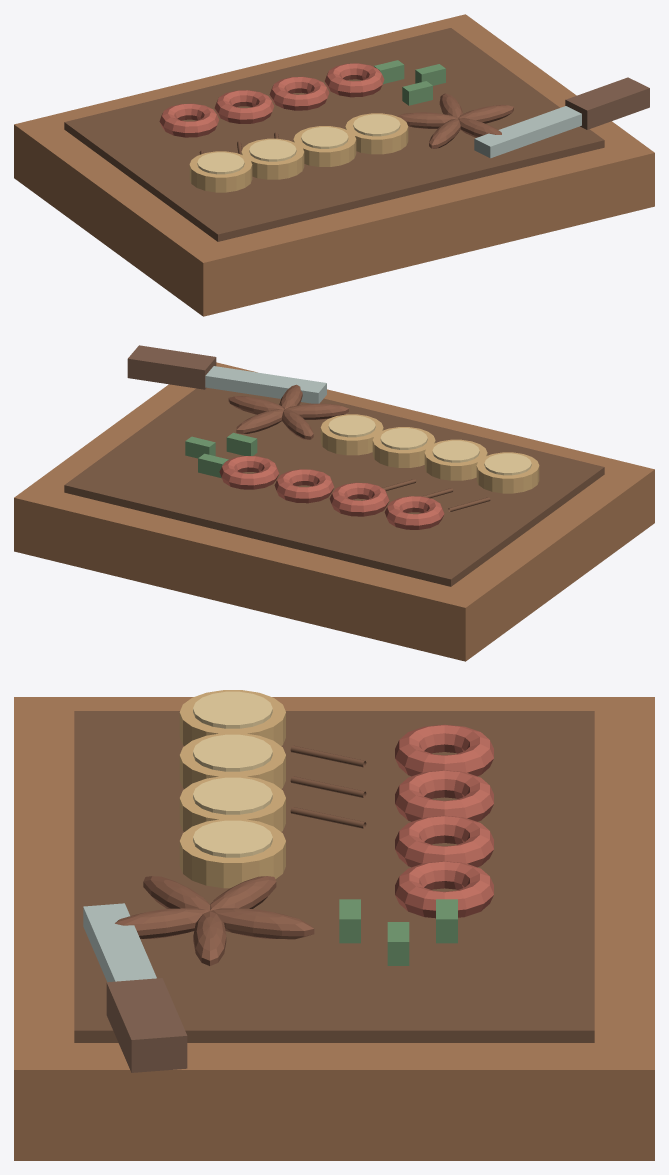
Rendered from sliced_spices.glb.
3 renders of one model, top to bottom at view 1: azimuth 30°, elevation 25°; view 2: azimuth 150°, elevation 25°; view 3: azimuth 270°, elevation 25°, orthographic. The views are drawn at different scales.
Parts seen in each view (by area): view 1: spice_oil_rounded_board_body, spice_oil_rounded_board_inset, spice_oil_knife_handle, spice_oil_knife_blade, red_chile_ring_0, red_chile_ring_3, red_chile_ring_1, red_chile_ring_2, ginger_coin_0, ginger_coin_1, ginger_coin_3, ginger_coin_2 (+11 smaller); view 2: spice_oil_rounded_board_body, spice_oil_rounded_board_inset, spice_oil_knife_handle, spice_oil_knife_blade, red_chile_ring_1, red_chile_ring_2, red_chile_ring_0, red_chile_ring_3, ginger_coin_0, ginger_coin_3, ginger_coin_1, ginger_coin_2 (+11 smaller); view 3: spice_oil_rounded_board_body, spice_oil_rounded_board_inset, spice_oil_knife_handle, red_chile_ring_3, red_chile_ring_1, red_chile_ring_2, red_chile_ring_0, ginger_coin_3, spice_oil_knife_blade, ginger_flesh_0, ginger_flesh_1, ginger_flesh_3 (+12 smaller).
Part boxes in pixels (<box>): spice_oil_rounded_board_body: <box>14,14,654,316</box>; spice_oil_rounded_board_inset: <box>64,28,604,241</box>; spice_oil_knife_handle: <box>565,77,649,129</box>; spice_oil_knife_blade: <box>474,106,581,158</box>; red_chile_ring_0: <box>159,103,219,137</box>; red_chile_ring_3: <box>324,63,384,97</box>; red_chile_ring_1: <box>214,90,274,123</box>; red_chile_ring_2: <box>269,76,329,110</box>; ginger_coin_0: <box>189,151,252,192</box>; ginger_coin_1: <box>241,138,304,179</box>; ginger_coin_3: <box>345,113,408,154</box>; ginger_coin_2: <box>293,126,356,166</box>; spice_oil_rounded_board_body: <box>14,362,654,661</box>; spice_oil_rounded_board_inset: <box>64,388,604,586</box>; spice_oil_knife_handle: <box>127,345,216,389</box>; spice_oil_knife_blade: <box>205,366,326,403</box>; red_chile_ring_1: <box>329,482,389,516</box>; red_chile_ring_2: <box>274,469,334,503</box>; red_chile_ring_0: <box>384,496,444,529</box>; red_chile_ring_3: <box>219,456,279,489</box>; ginger_coin_0: <box>476,452,539,493</box>; ginger_coin_3: <box>320,414,383,455</box>; ginger_coin_1: <box>424,439,487,480</box>; ginger_coin_2: <box>372,427,435,467</box>; spice_oil_rounded_board_body: <box>14,697,654,1160</box>; spice_oil_rounded_board_inset: <box>74,711,594,1042</box>; spice_oil_knife_handle: <box>106,978,187,1072</box>; red_chile_ring_3: <box>395,861,493,918</box>; red_chile_ring_1: <box>395,770,493,821</box>; red_chile_ring_2: <box>395,815,493,867</box>; red_chile_ring_0: <box>395,724,493,776</box>; ginger_coin_3: <box>179,819,285,888</box>; spice_oil_knife_blade: <box>83,903,156,982</box>; ginger_flesh_0: <box>193,691,272,728</box>; ginger_flesh_1: <box>193,734,272,771</box>; ginger_flesh_3: <box>193,820,272,857</box>.
Size of the model in its own units: 0.7778 by 0.1345 by 0.53.
